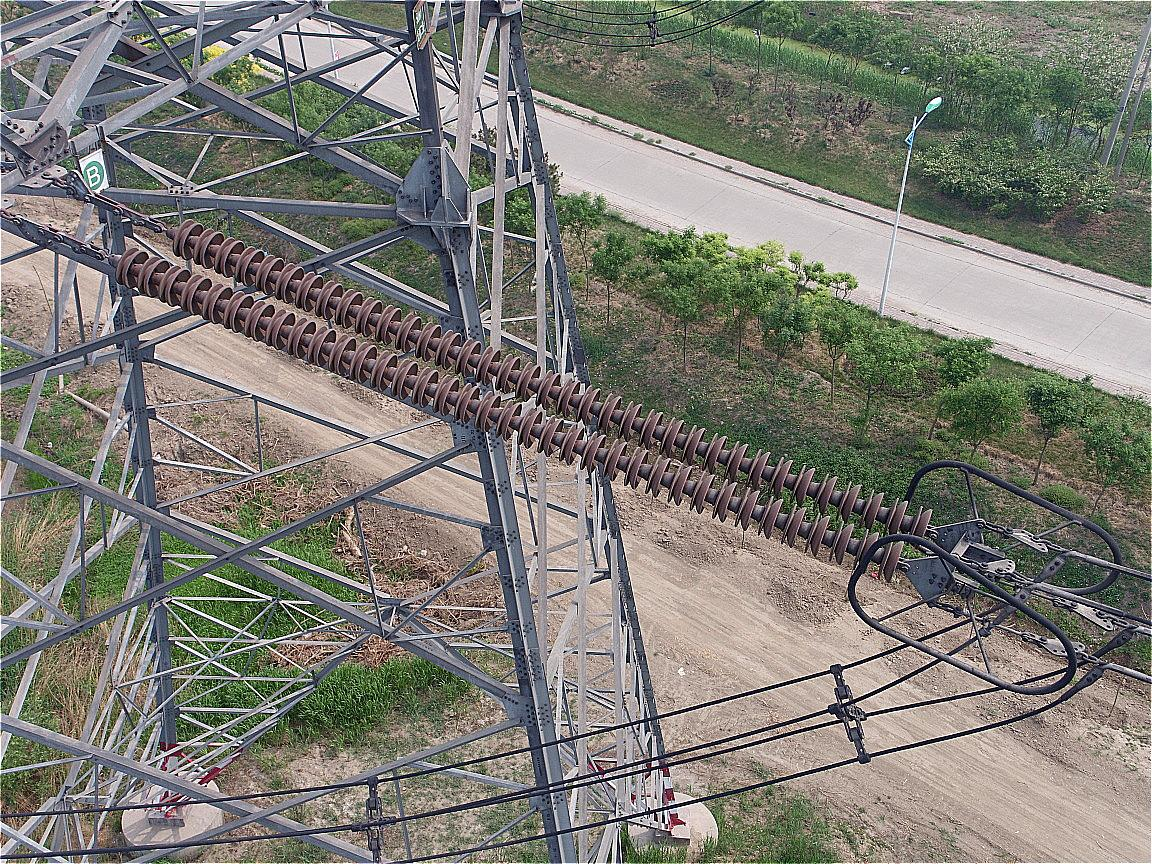insultor2: (118, 218, 934, 584)
